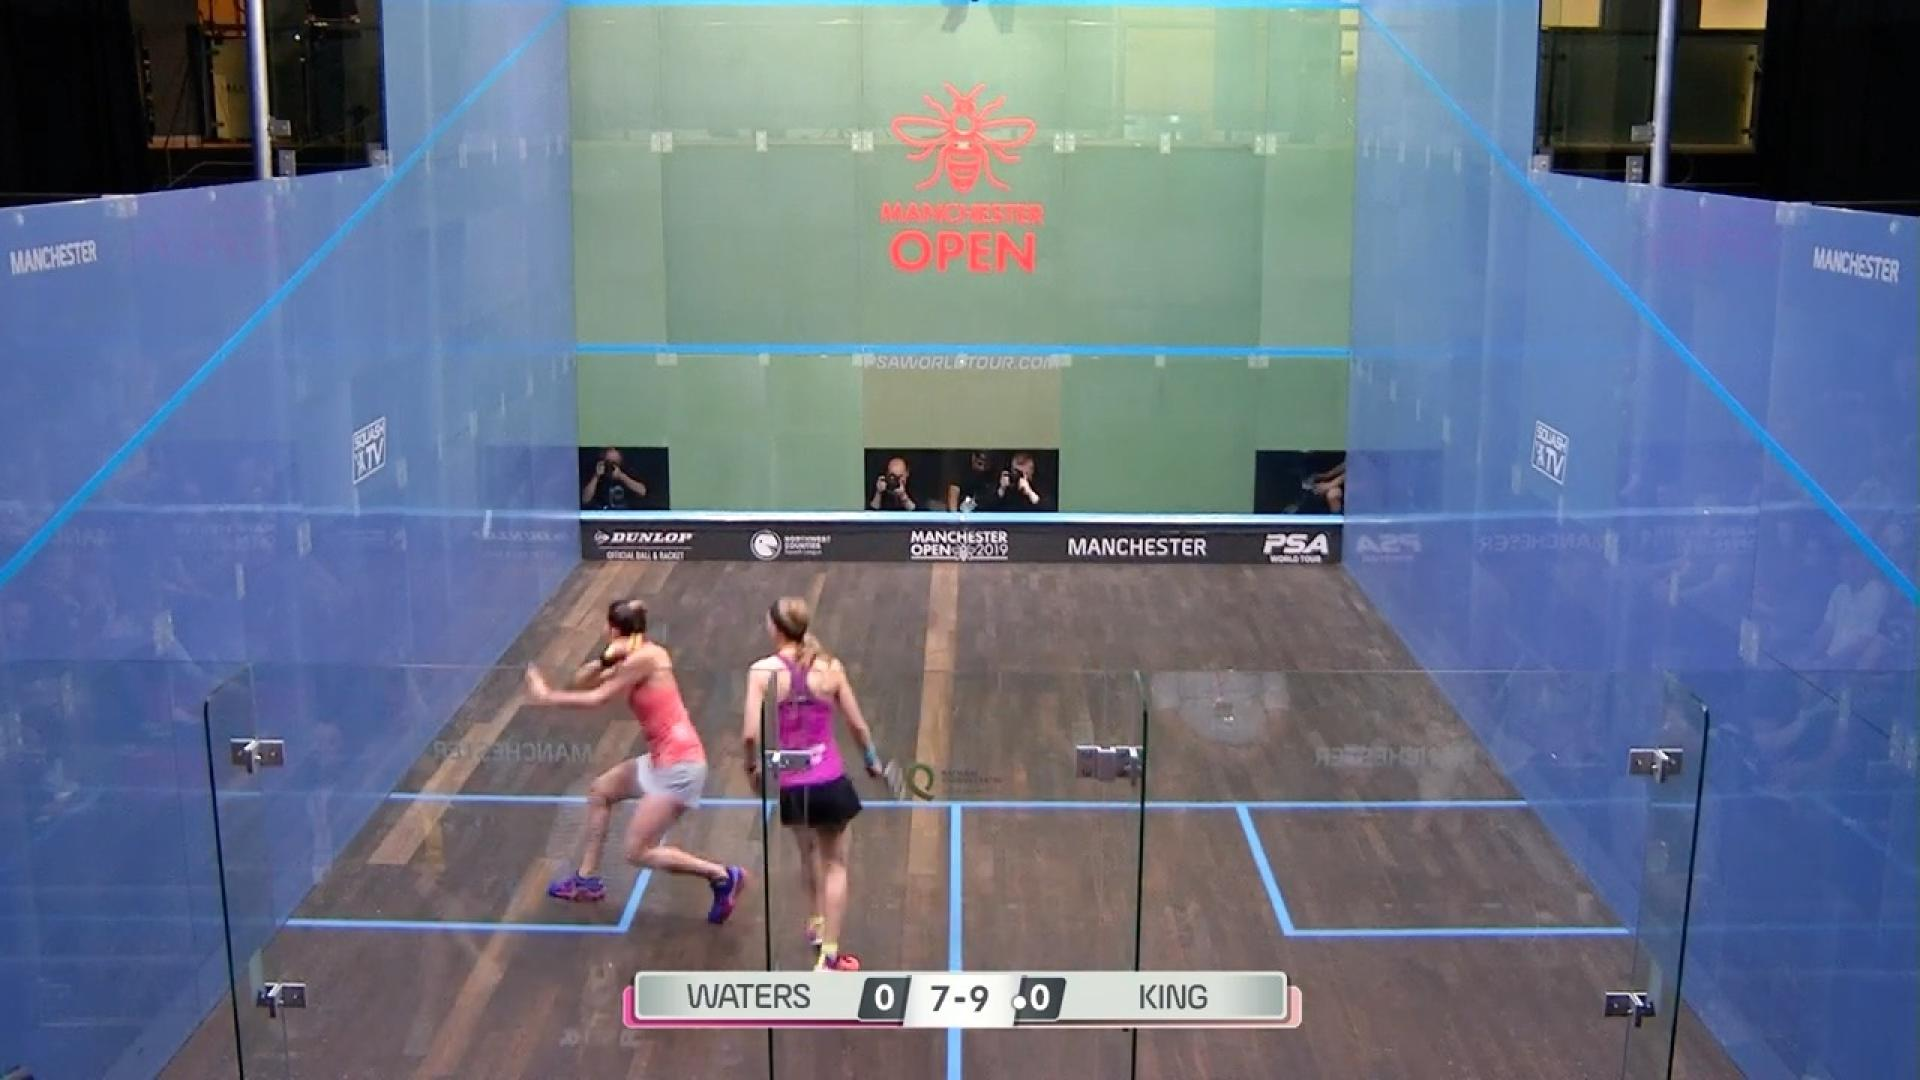Squash-Ball: (465, 495, 520, 560)
